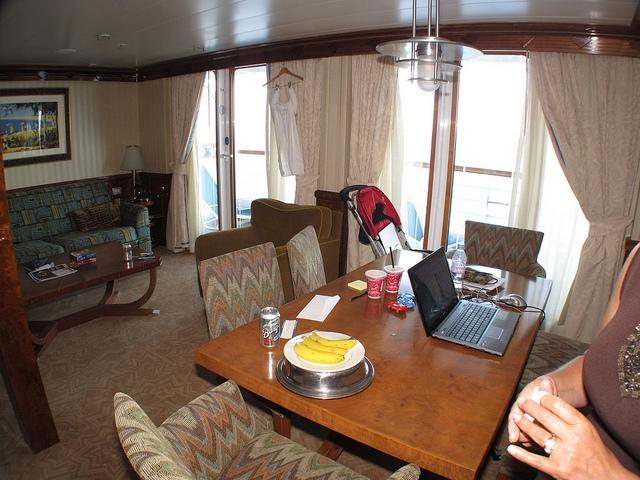banana: (294, 342, 344, 364), (309, 330, 357, 350), (301, 336, 348, 356)
